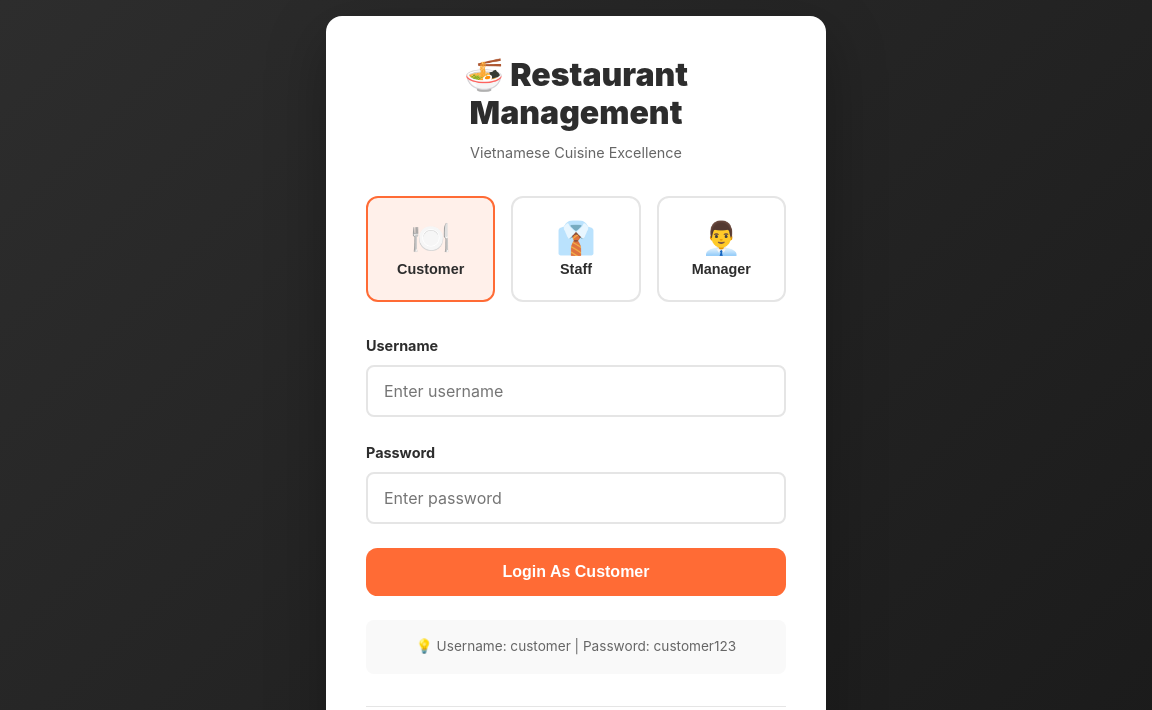
Scenario: Login Flow › shows validation when username/password are empty
The width and height of the screenshot is (1152, 710).
Step 1. Click the button "Login as customer" → (576, 572), box [366, 548, 786, 596]
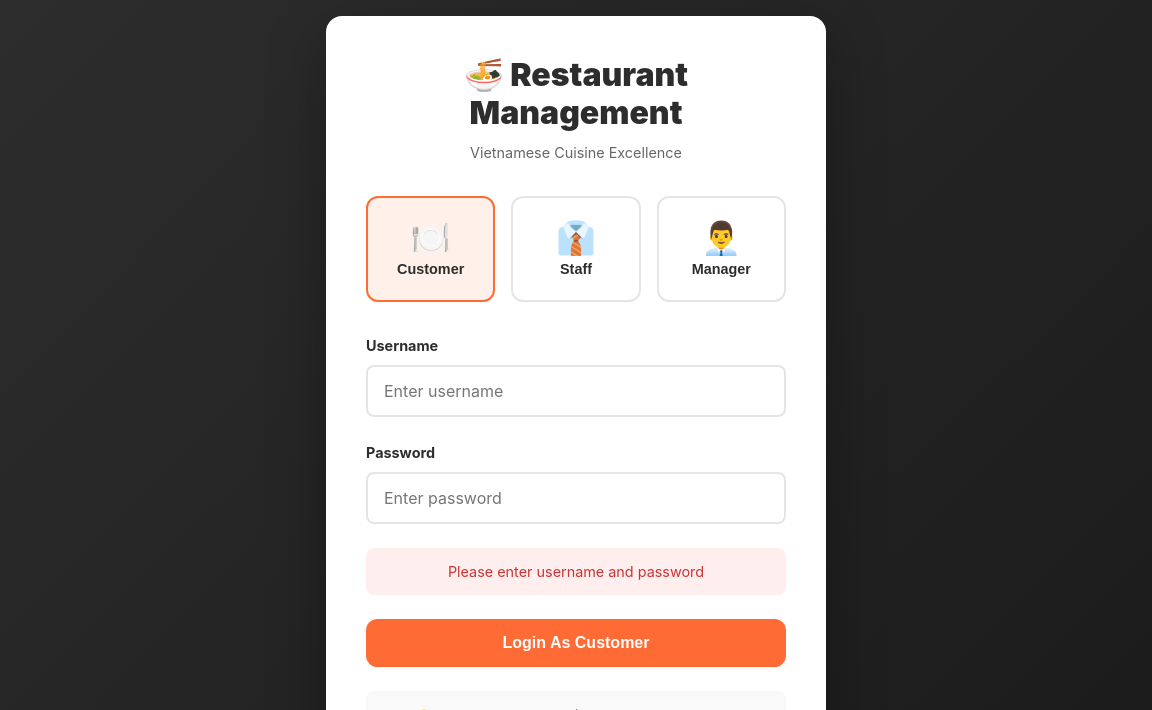
Expected: the text "Please enter username and password" is shown, [366, 548, 786, 595]
